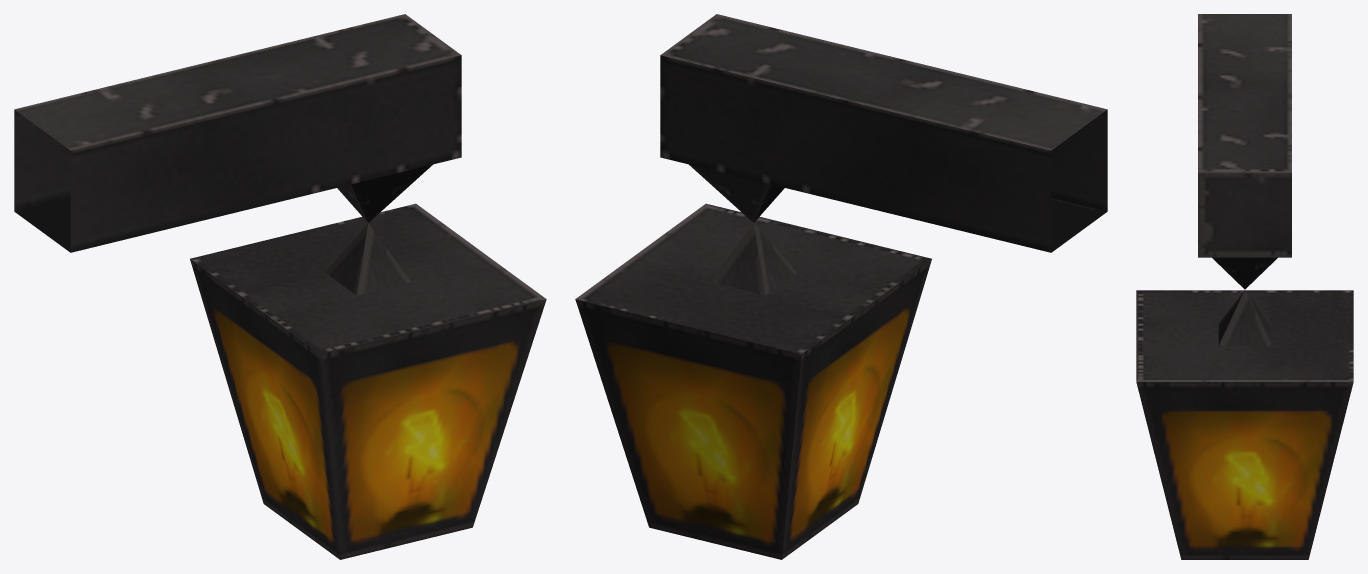
Rendered from Lantern.fbx.
The picture shows the model from 3 angles, left to right: view 1: azimuth 30°, elevation 25°; view 2: azimuth 150°, elevation 25°; view 3: azimuth 270°, elevation 25°; orthographic projection. The views are drawn at different scales.
Visible parts, largest first — view 1: Cube.025; view 2: Cube.025; view 3: Cube.025.
Boxes of the visible parts, x1=… form: Cube.025: x1=14, y1=14, x2=546, y2=559; Cube.025: x1=575, y1=14, x2=1107, y2=559; Cube.025: x1=1136, y1=14, x2=1353, y2=559.
Size of the model in its own units: 183 by 185 by 94.26.
